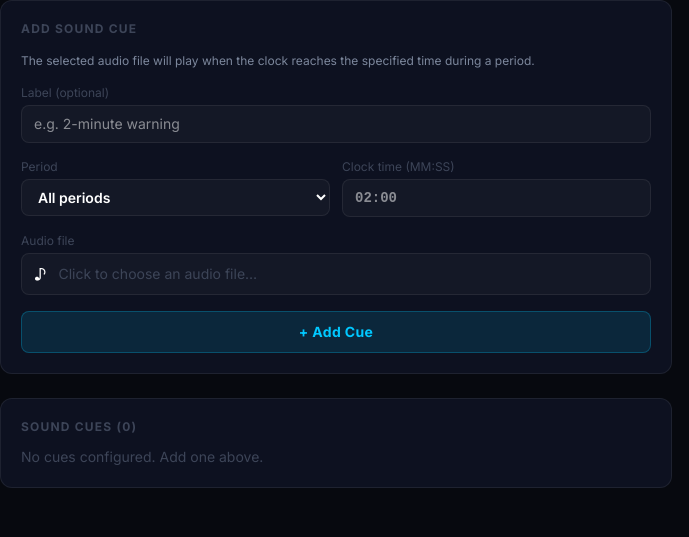
Test: AudioTab › shows a validation error when adding a cue without a file
Type "01:30" into the field with placeholder "02:00".
click(496, 198); type("01:30")  # box [342,179,651,217]
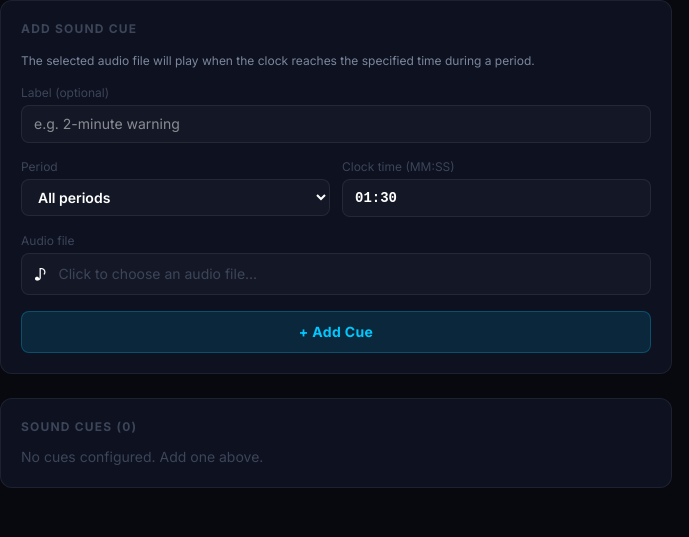
Click the button with test id "sound-add-cue".
click(336, 332)  # box [21,311,651,353]
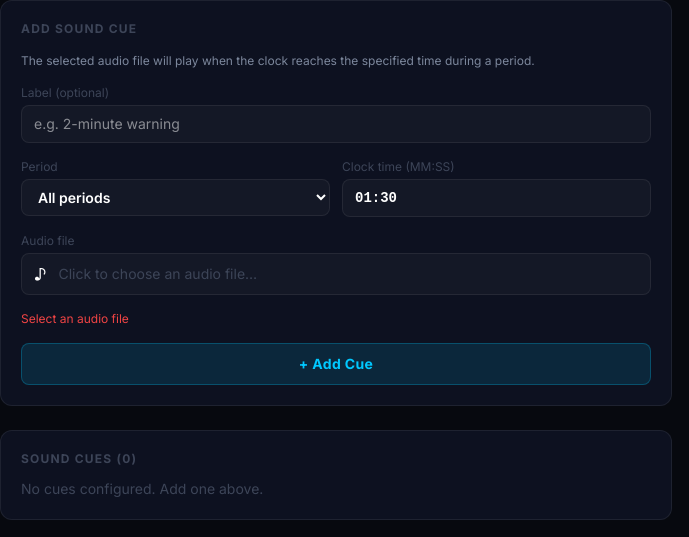
Expected: the text with test id "sound-error" reads "Select an audio file", [21,311,129,326]
